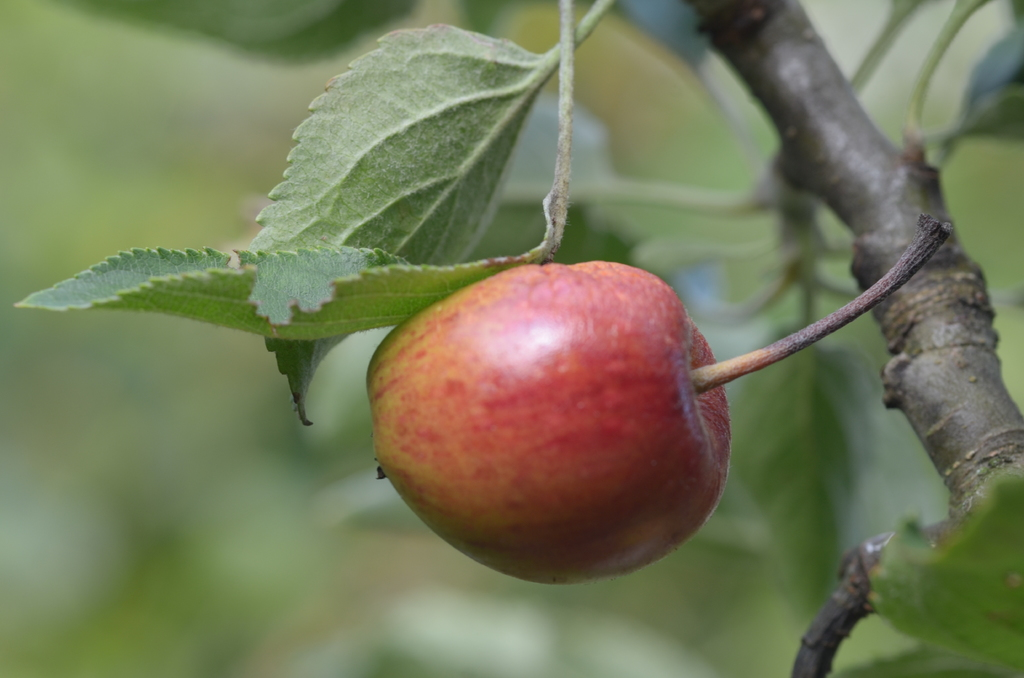Apple: (360, 212, 951, 589)
